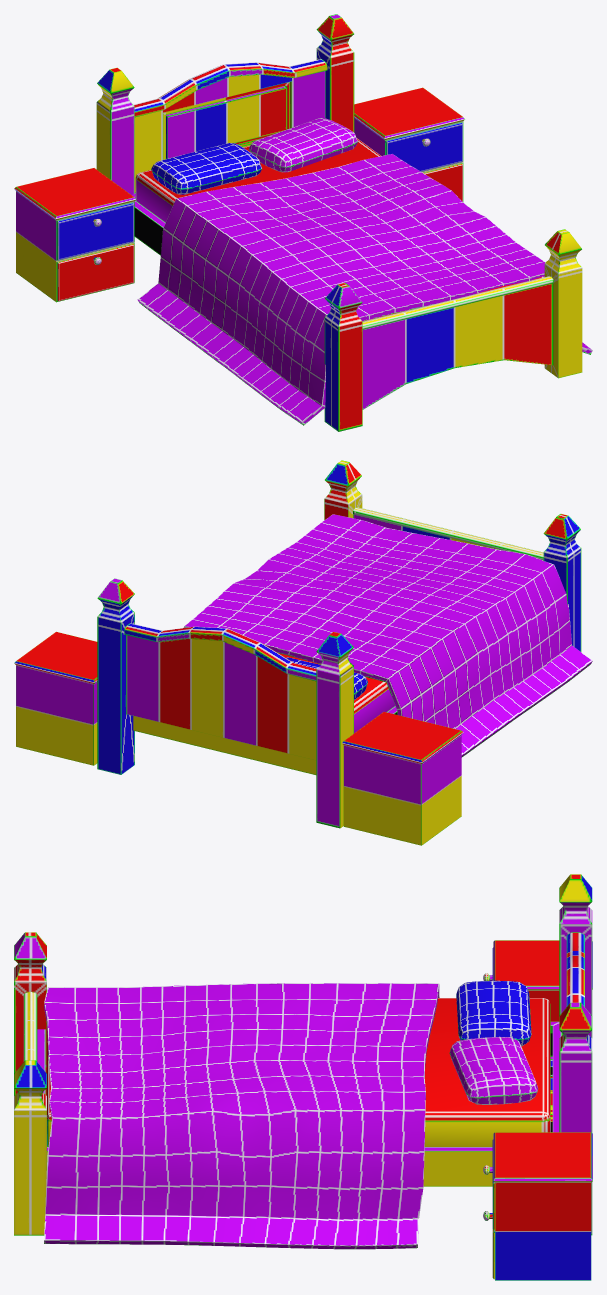
Rendered from Bed1.fbx.
3 renders of one model, top to bottom at view 1: azimuth 30°, elevation 25°; view 2: azimuth 150°, elevation 25°; view 3: azimuth 270°, elevation 25°, orthographic. The views are drawn at different scales.
Visible parts, largest first — view 1: Bed; view 2: Bed; view 3: Bed.
Boxes of the visible parts, x1,y1,x2,y2 form: Bed: [14, 14, 592, 431]; Bed: [14, 460, 592, 845]; Bed: [14, 874, 592, 1280].
Bounding box in the file's own units: 206 × 90.67 × 211.
1 material, 1 textured.
